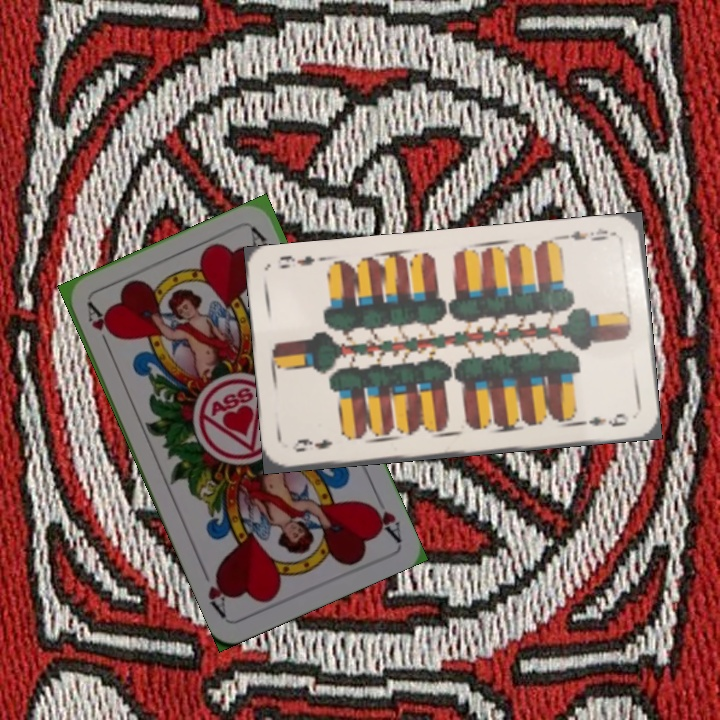E9: (558, 224, 618, 244), (288, 435, 335, 455)
HA: (364, 489, 404, 544), (82, 298, 118, 355)
